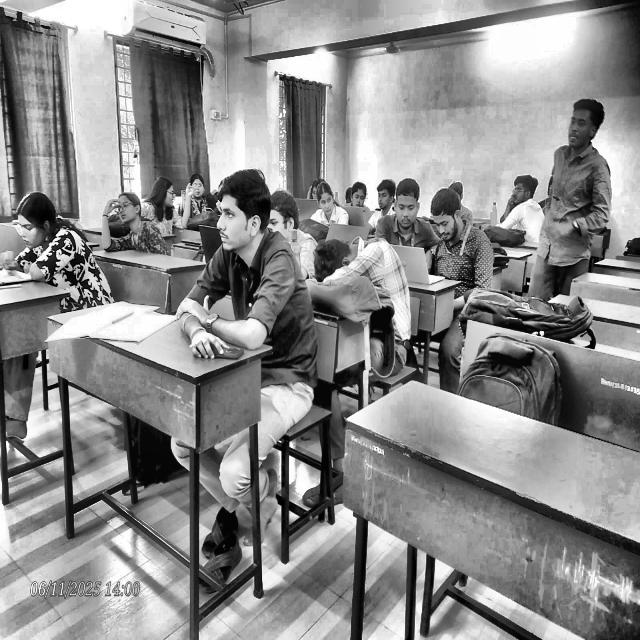Focus: (207, 173, 275, 256), (10, 193, 63, 249), (430, 180, 468, 247), (396, 176, 424, 240), (109, 179, 138, 231), (183, 170, 206, 216), (374, 177, 395, 217)
Not Focus: (313, 231, 367, 290), (563, 100, 608, 157), (147, 174, 177, 223), (509, 172, 541, 214), (314, 179, 340, 221), (347, 178, 368, 213)
